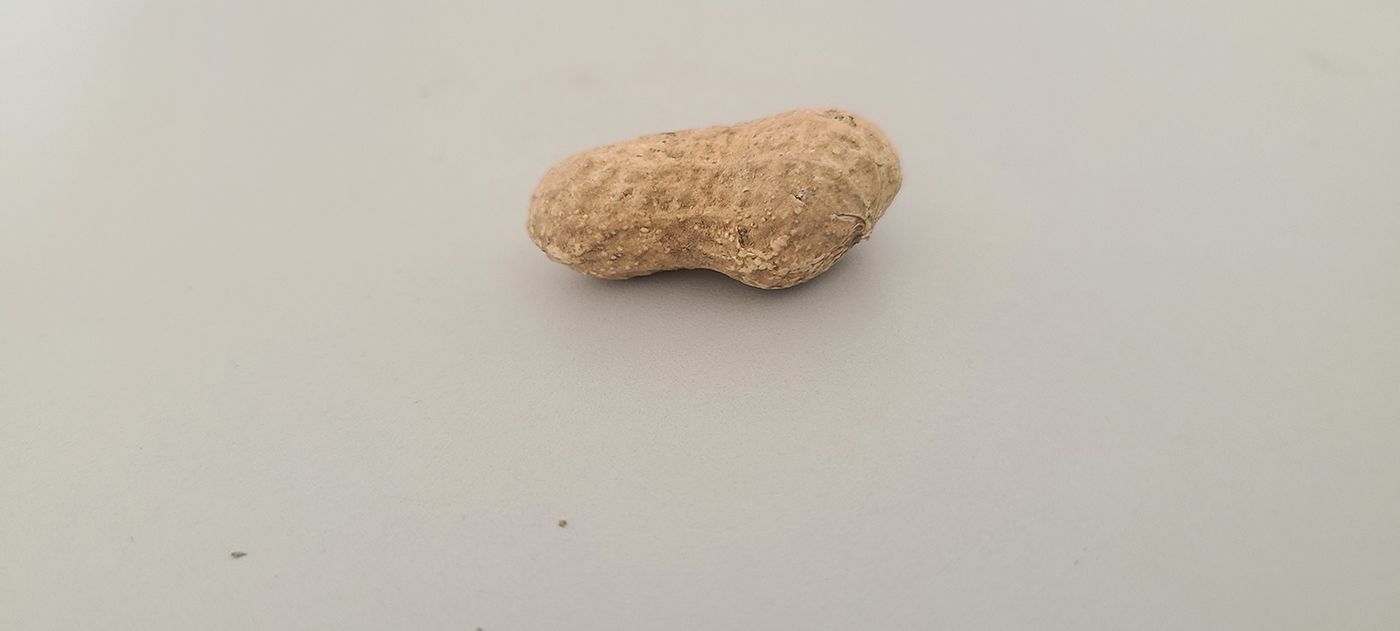h: (523, 104, 906, 290)
